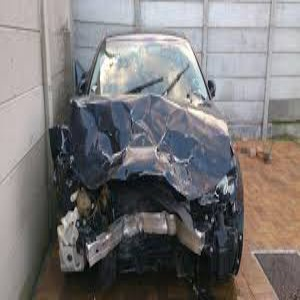bonnet: (71, 97, 234, 196)
bumper: (59, 214, 231, 277)
